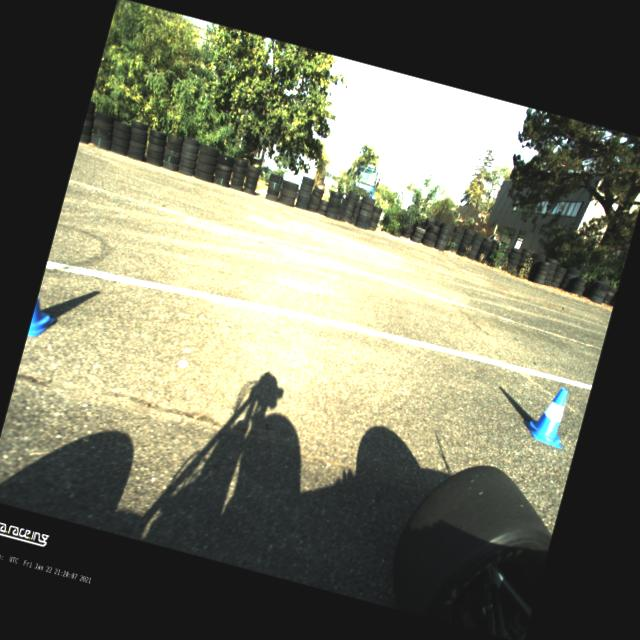blue_cone: (520, 381, 576, 448)
